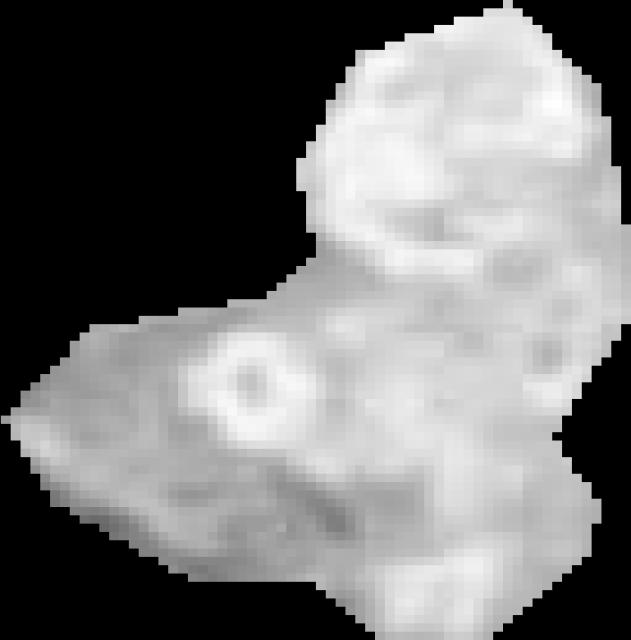tumor_moderate_chance: (1, 0, 631, 640)
